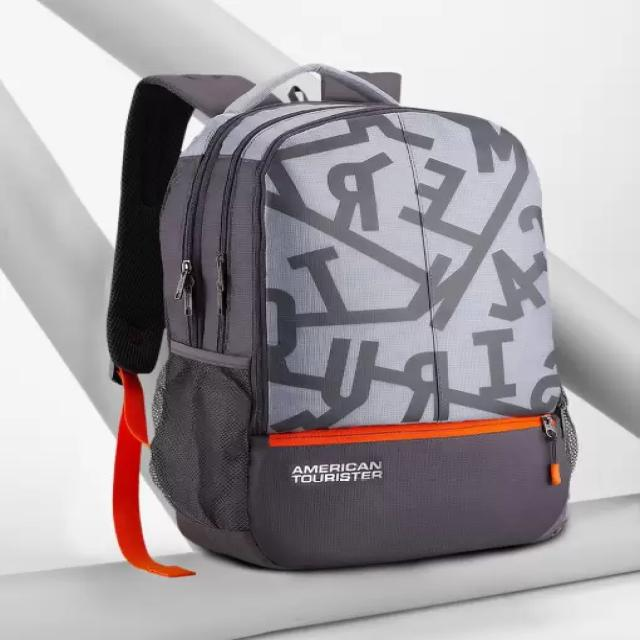backpack: (108, 63, 580, 575)
